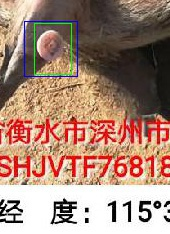text: (34, 23, 71, 74)
